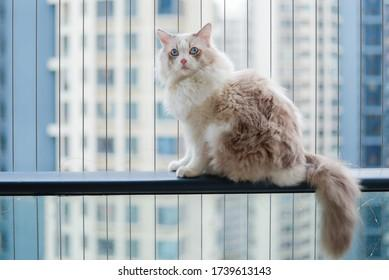ragdoll: (153, 19, 219, 91)
